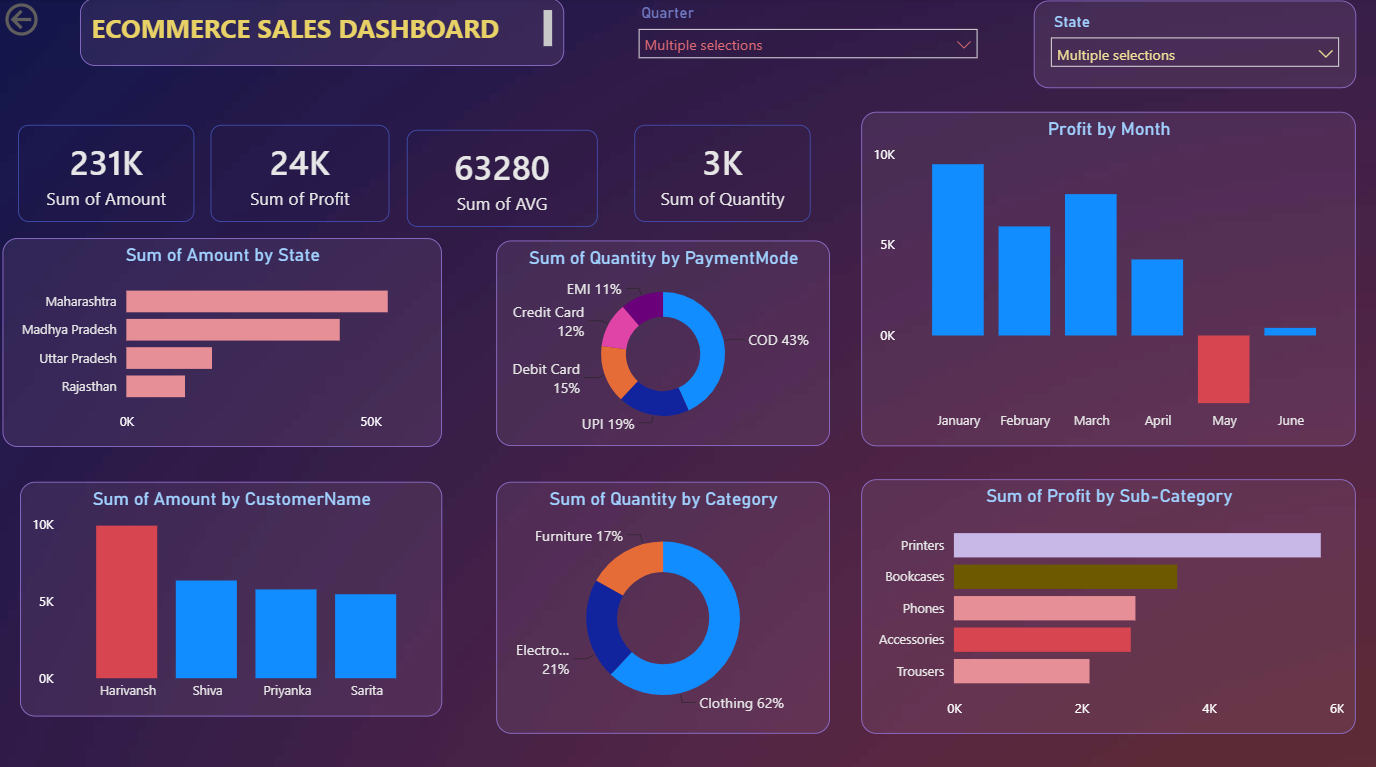

This screenshot's page, from the dashboard's own definition file:
{"tool":"powerbi","page":{"name":"Page 1","canvas":[1280,720],"ordinal":0},"visuals":[{"type":"textbox","box":[74.1,0,450.1,63.1],"z":0},{"type":"columnChart","title":"Profit by Month","fields":{"Category":["Orders.Order Date.Variation.Date Hierarchy.Month"],"Y":["Sum(Details.Profit)"]},"box":[801.4,105.7,460,311.4],"z":1000},{"type":"barChart","fields":{"Category":["Details.Sub-Category"],"Y":["Sum(Details.Profit)"]},"box":[801.4,447.1,460,237.1],"z":2000},{"type":"donutChart","fields":{"Category":["Details.Category"],"Y":["Sum(Details.Quantity)"]},"box":[461.4,450,310,234.3],"z":3000},{"type":"donutChart","fields":{"Y":["Sum(Details.Quantity)"],"Category":["Details.PaymentMode"]},"box":[461.4,225.7,310,191.4],"z":4000},{"type":"actionButton","box":[0,0,100,40],"z":5000},{"type":"cardVisual","fields":{"Data":["Sum(Details.Amount)"]},"box":[0,101.4,198.6,124.3],"z":6000},{"type":"cardVisual","fields":{"Data":["Sum(Details.Quantity)"]},"box":[572.9,101.4,198.6,124.3],"z":7000},{"type":"cardVisual","fields":{"Data":["Sum(Details.Profit)"]},"box":[178.6,101.4,200,124.3],"z":8000},{"type":"cardVisual","fields":{"Data":["Sum(Details.AVG)"]},"box":[361.4,105.7,211.4,124.3],"z":9000},{"type":"barChart","fields":{"Category":["Orders.State"],"Y":["Sum(Details.Amount)"]},"box":[2.9,222.9,408.6,194.3],"z":10000},{"type":"columnChart","fields":{"Category":["Orders.CustomerName"],"Y":["Sum(Details.Amount)"]},"box":[18.6,450,392.9,218.6],"z":11000},{"type":"slicer","fields":{"Values":["Orders.Order Date.Variation.Date Hierarchy.Quarter"]},"box":[584.3,0,335.7,84.3],"z":11001},{"type":"slicer","fields":{"Values":["Orders.State"]},"box":[961.4,2.9,300,81.4],"z":11002}]}

Visuals, with their boxes in screenshot pixels (x1, y1, x2, y2), scaled from the page's 1280x720 canvas onto the 1376x767 screenshot:
textbox: [80,0,564,67]
"Profit by Month" columnChart: [862,113,1356,444]
barChart - Details.Sub-Category x Sum(Details.Profit): [862,476,1356,729]
donutChart - Details.Category x Sum(Details.Quantity): [496,479,829,729]
donutChart - Sum(Details.Quantity) x Details.PaymentMode: [496,240,829,444]
actionButton: [0,0,108,43]
cardVisual - Sum(Details.Amount): [0,108,213,240]
cardVisual - Sum(Details.Quantity): [616,108,829,240]
cardVisual - Sum(Details.Profit): [192,108,407,240]
cardVisual - Sum(Details.AVG): [389,113,616,245]
barChart - Orders.State x Sum(Details.Amount): [3,237,442,444]
columnChart - Orders.CustomerName x Sum(Details.Amount): [20,479,442,712]
slicer - Orders.Order Date.Variation.Date Hierarchy.Quarter: [628,0,989,90]
slicer - Orders.State: [1034,3,1356,90]
